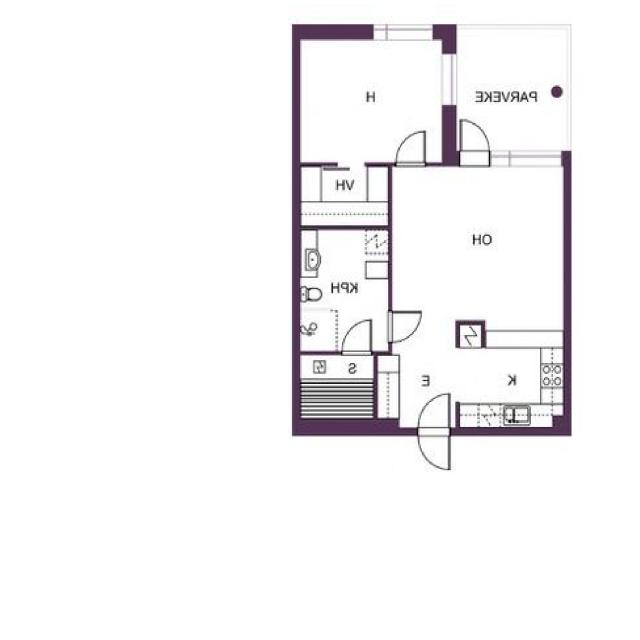door: (417, 426, 450, 471), (417, 392, 450, 436), (460, 120, 489, 167), (394, 131, 424, 167), (341, 321, 369, 355), (387, 312, 418, 341)
